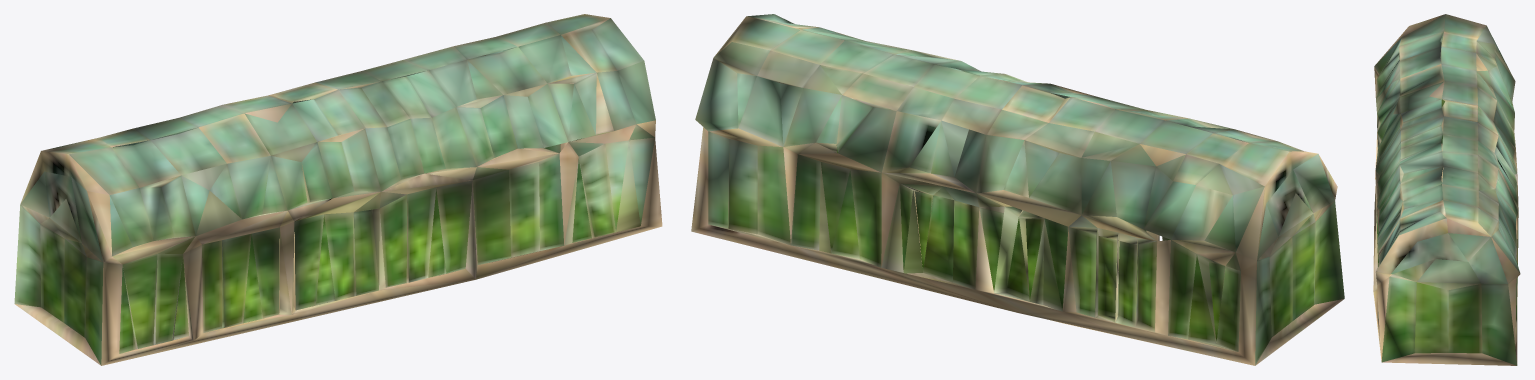
Rendered from greenhouse_far.glb.
The picture shows the model from 3 angles, left to right: view 1: azimuth 30°, elevation 25°; view 2: azimuth 150°, elevation 25°; view 3: azimuth 270°, elevation 25°; orthographic projection. The views are drawn at different scales.
Visible parts, largest first — view 1: tripo_node_a46cb8f6-c1e8-4b49-bb2e-f4c5e3721575; view 2: tripo_node_a46cb8f6-c1e8-4b49-bb2e-f4c5e3721575; view 3: tripo_node_a46cb8f6-c1e8-4b49-bb2e-f4c5e3721575.
Boxes of the visible parts, x1,y1,x2,y2 form: tripo_node_a46cb8f6-c1e8-4b49-bb2e-f4c5e3721575: (14,14,662,365); tripo_node_a46cb8f6-c1e8-4b49-bb2e-f4c5e3721575: (691,14,1344,365); tripo_node_a46cb8f6-c1e8-4b49-bb2e-f4c5e3721575: (1373,14,1520,365).
Bounding box in the file's own units: 120 × 37.87 × 34.74.
Materials: 1 (1 with a texture image).
